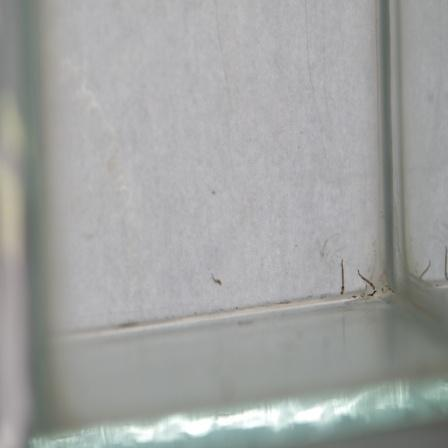Jentik-Nyamuk: (355, 264, 377, 299), (336, 256, 349, 299)
